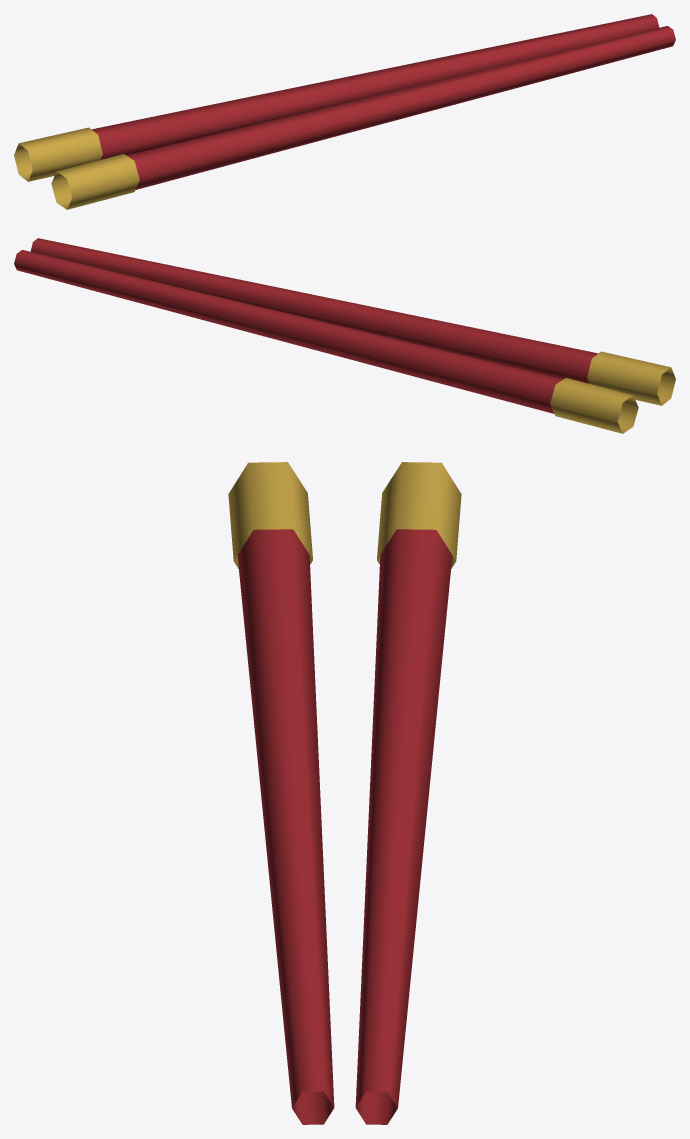
Rendered from item_ic_lost_chopsticks.glb.
3 renders of one model, top to bottom at view 1: azimuth 30°, elevation 25°; view 2: azimuth 150°, elevation 25°; view 3: azimuth 270°, elevation 25°, orthographic. The views are drawn at different scales.
Visible parts, largest first — view 1: item_ic_lost_chopsticks_gloss; view 2: item_ic_lost_chopsticks_gloss; view 3: item_ic_lost_chopsticks_gloss.
Boxes of the visible parts, box(x1,y1,x2,y2) form: item_ic_lost_chopsticks_gloss: box(14, 14, 675, 209); item_ic_lost_chopsticks_gloss: box(14, 238, 675, 433); item_ic_lost_chopsticks_gloss: box(228, 462, 461, 1124).
Bounding box in the file's own units: 0.2704 × 0.013 × 0.044.
